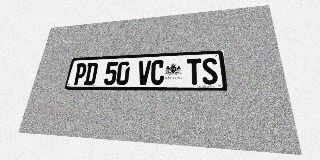0: (115, 61, 130, 85)
5: (103, 62, 118, 85)
C: (150, 60, 165, 85)
D: (83, 63, 98, 85)
P: (72, 63, 88, 85)
S: (202, 58, 218, 85)
T: (187, 58, 202, 85)
V: (137, 60, 151, 85)
